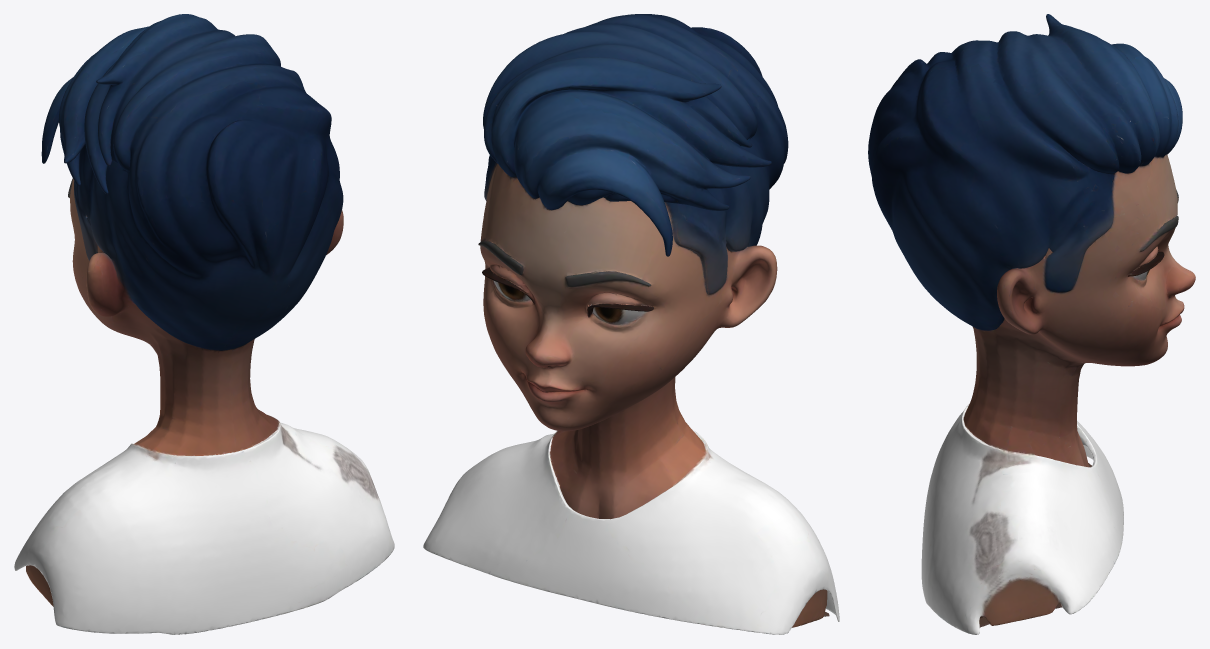
File: sample4.glb
The picture shows the model from 3 angles, left to right: view 1: azimuth 30°, elevation 25°; view 2: azimuth 150°, elevation 25°; view 3: azimuth 270°, elevation 25°; orthographic projection. The views are drawn at different scales.
Parts seen in each view (by area): view 1: world; view 2: world; view 3: world.
Boxes of the visible parts, x1,y1,x2,y2 form: world: [14, 14, 394, 634]; world: [423, 14, 839, 634]; world: [868, 14, 1195, 634].
Size of the model in its own units: 0.6117 by 0.9239 by 0.5209.
1 material, 1 textured.
